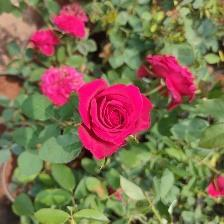rose: (76, 77, 154, 159), (151, 52, 198, 106)
